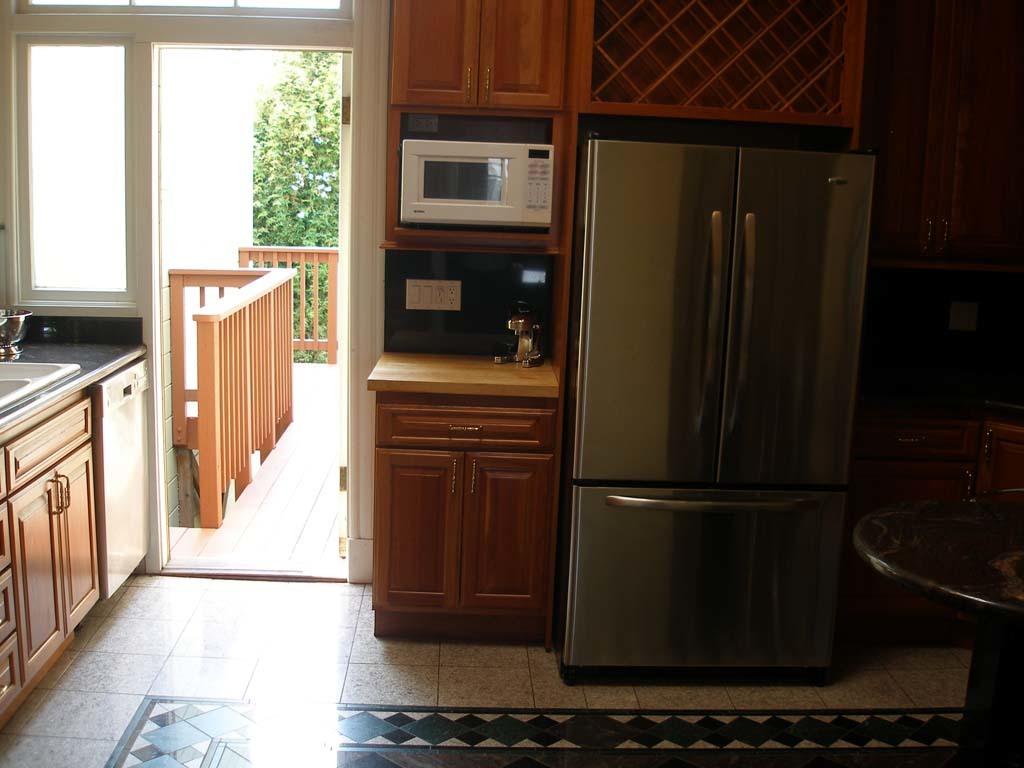cabinet door: (462, 458, 550, 614), (390, 450, 460, 603), (481, 2, 562, 111), (396, 5, 477, 109), (19, 490, 67, 641), (386, 404, 537, 446), (65, 468, 97, 612)
handle: (610, 485, 809, 532), (738, 224, 766, 444), (702, 205, 726, 435), (49, 471, 65, 524), (463, 54, 478, 101), (450, 423, 479, 445), (60, 468, 76, 507), (468, 458, 481, 503), (481, 60, 494, 105), (447, 458, 458, 501)
refrigerator door: (594, 486, 841, 663), (593, 145, 716, 473), (744, 150, 859, 475)
